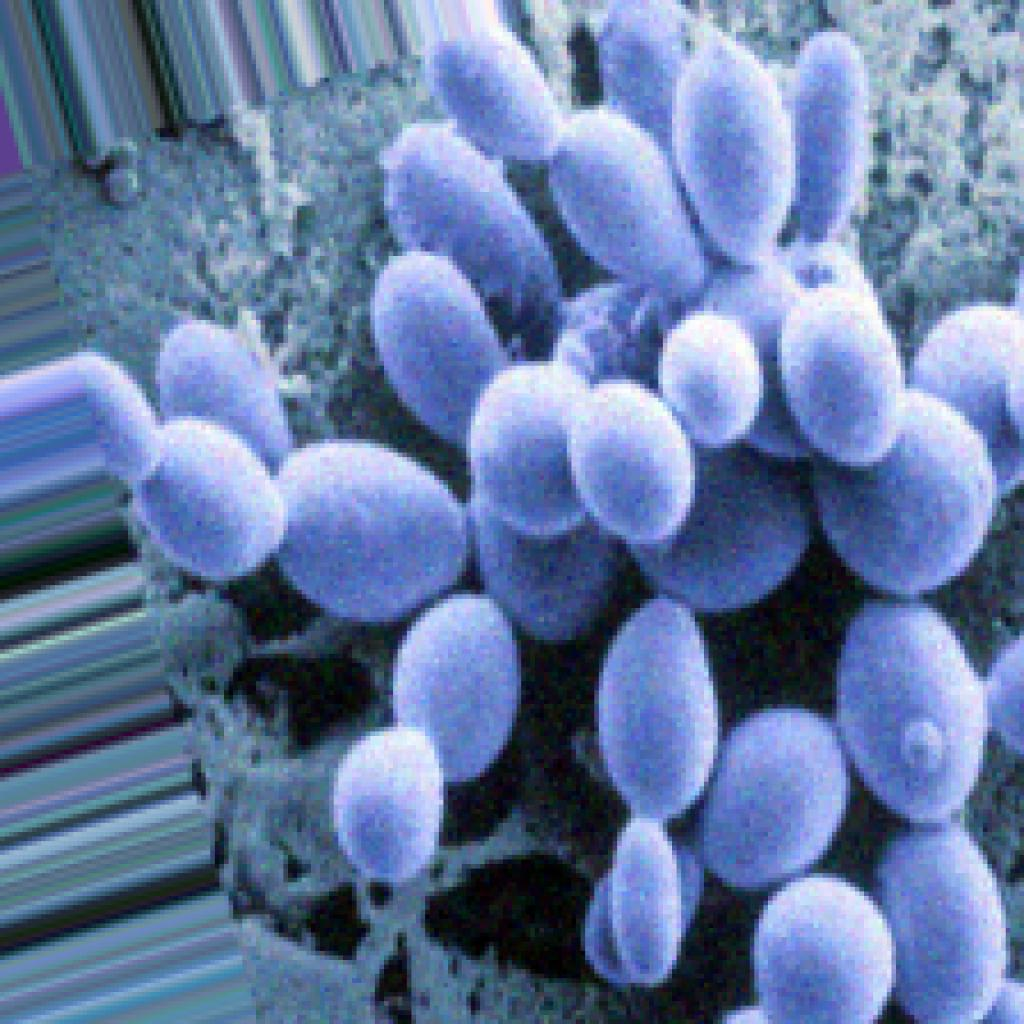Yeast: (73, 0, 1019, 1019)
